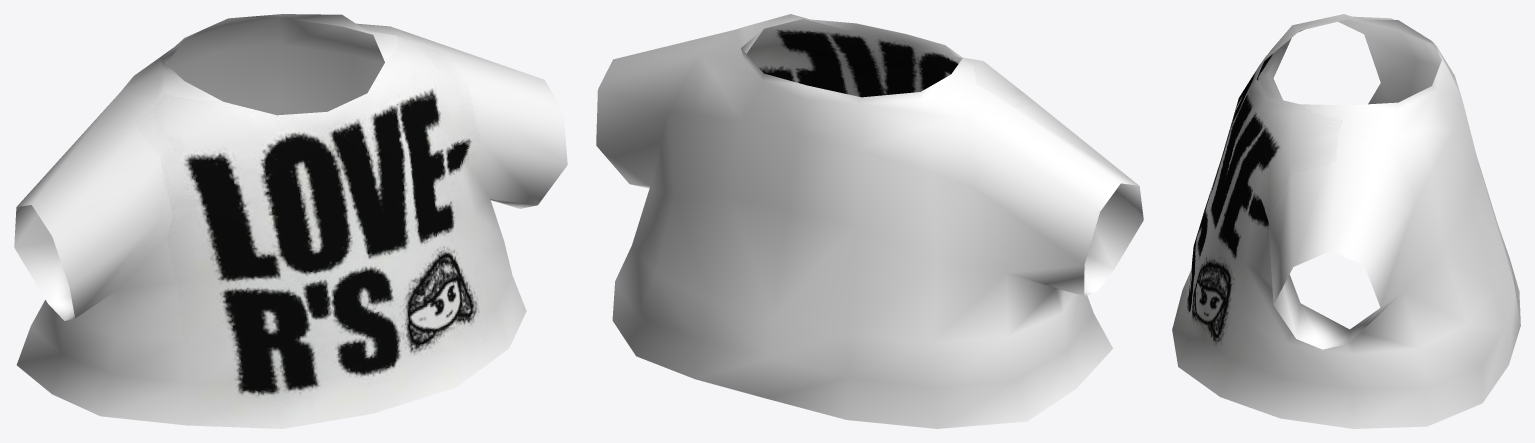
The model's file is Lovers_Tee.glb.
The picture shows the model from 3 angles, left to right: view 1: azimuth 30°, elevation 25°; view 2: azimuth 150°, elevation 25°; view 3: azimuth 270°, elevation 25°; orthographic projection. The views are drawn at different scales.
Visible parts, largest first — view 1: Lovers_Tee; view 2: Lovers_Tee; view 3: Lovers_Tee.
Boxes of the visible parts, <box> form: Lovers_Tee: <box>14,14,567,428</box>; Lovers_Tee: <box>596,14,1143,428</box>; Lovers_Tee: <box>1172,14,1520,428</box>.
Size of the model in its own units: 0.6125 by 0.336 by 0.3869.
Materials: 1 (1 with a texture image).
